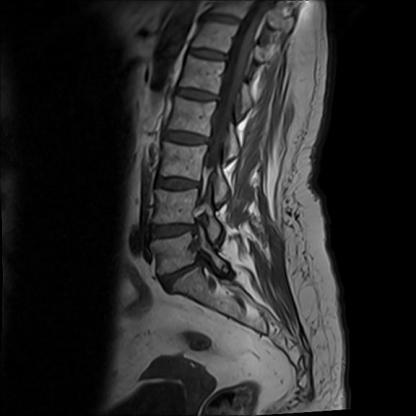Disc Bulgerotation: (158, 263, 204, 289), (151, 222, 199, 240)
